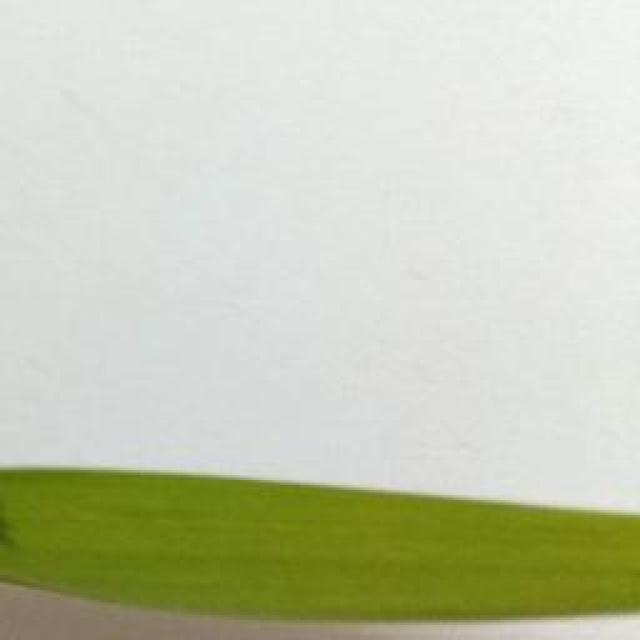Healthy-Plant: (0, 467, 640, 630)
